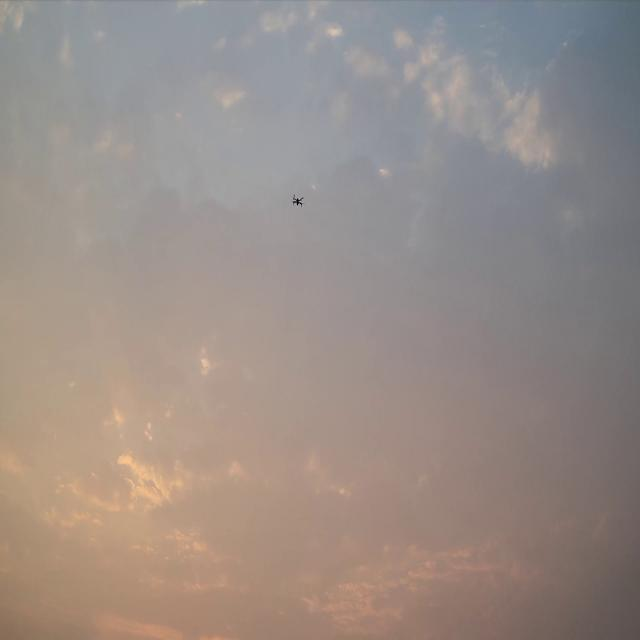drone: (291, 193, 306, 208)
